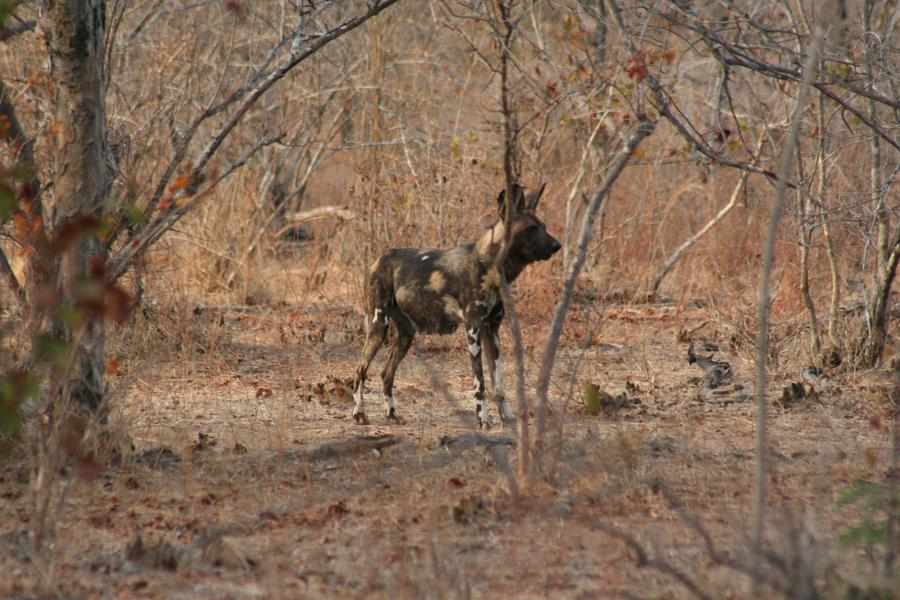wilddog: (333, 198, 550, 385)
